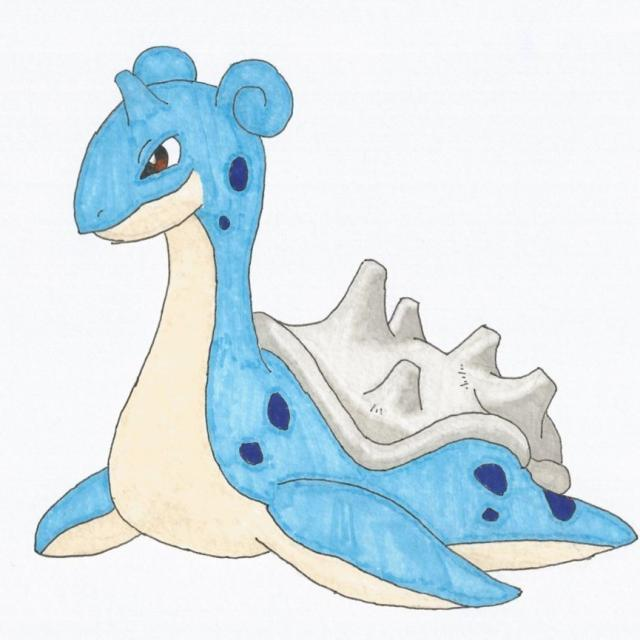Lapras: (62, 59, 577, 572)
